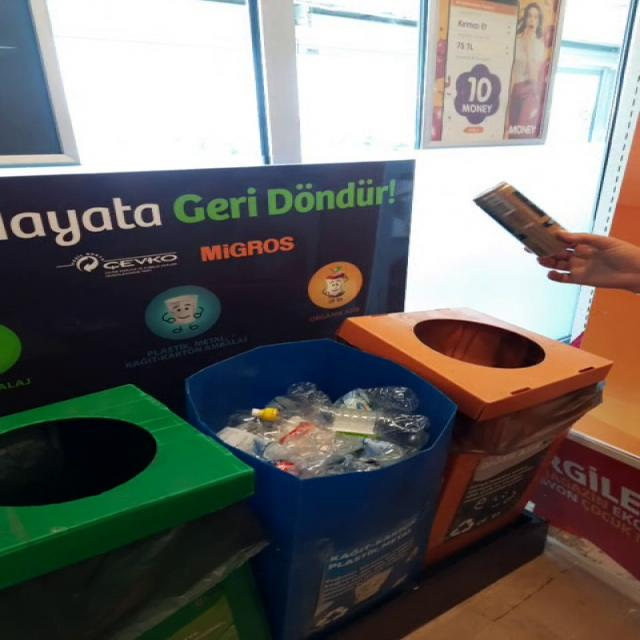bin: (187, 308, 612, 640), (0, 385, 271, 640)
metal: (475, 182, 569, 256)
